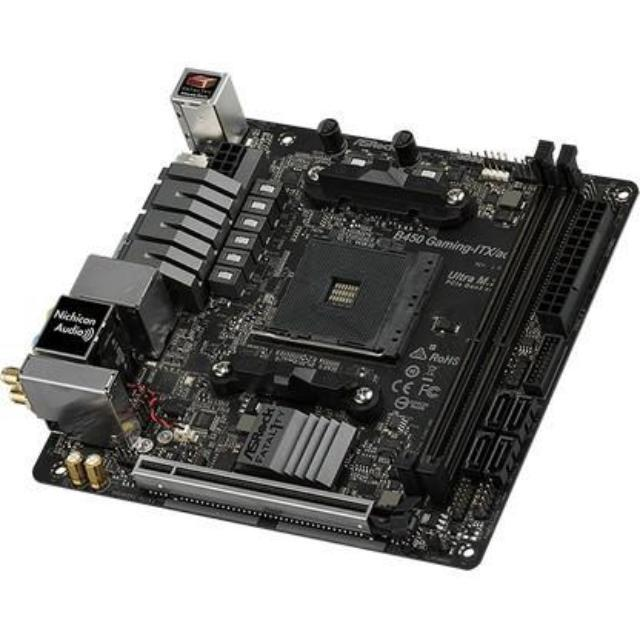Mainboard: (5, 49, 640, 577)
